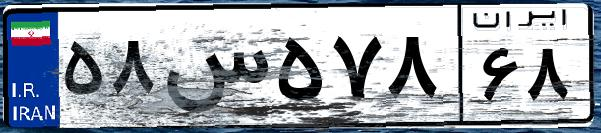5: (270, 28, 330, 110), (57, 26, 110, 100)
6: (475, 38, 525, 113)
7: (330, 28, 385, 110)
8: (385, 28, 445, 110), (525, 38, 570, 115), (110, 28, 158, 98)
س: (158, 20, 270, 120)
